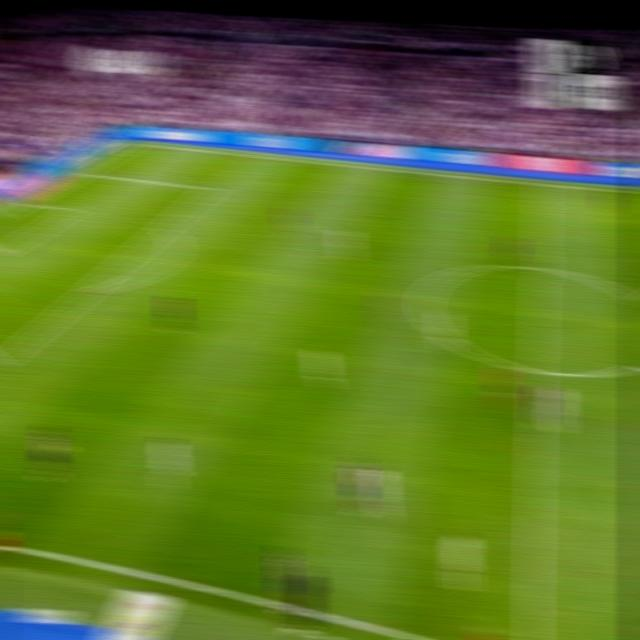bigarea_top_inner: (203, 181, 220, 196)
bigarea_top_outter: (74, 164, 92, 176)
bottom_arc_area_intersection: (82, 279, 101, 297)
corner: (126, 136, 145, 147)
halfcircle_bottom: (526, 355, 548, 383)
halfcircle_top: (528, 255, 551, 279)
midline_top_intersection: (533, 177, 551, 190)
smallarea_top_inner: (63, 203, 81, 215)
top_arc_area_intersection: (155, 218, 174, 234)
